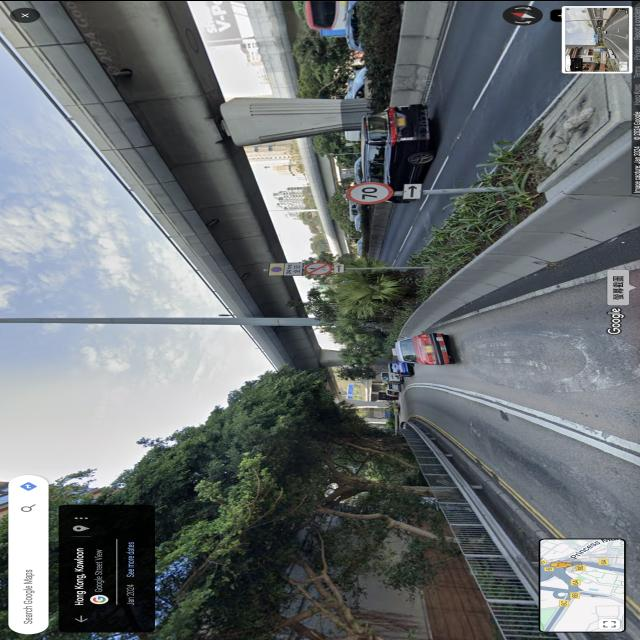Direction-Sign: (374, 410, 385, 418), (348, 384, 353, 393), (385, 411, 391, 418), (348, 395, 352, 398)
Order-Sign: (346, 181, 394, 203), (268, 262, 302, 274), (304, 262, 332, 274), (402, 183, 422, 197), (332, 264, 344, 272)
